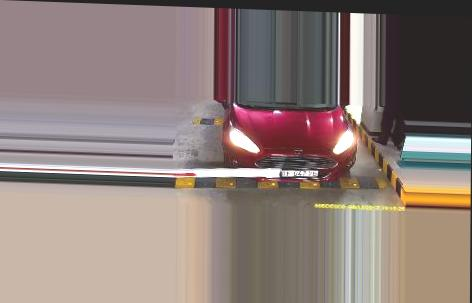License_Plate: (280, 166, 320, 182)
